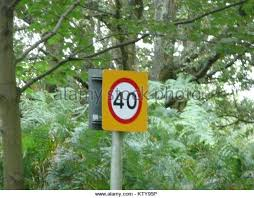Speed_limit_40km: (108, 78, 142, 123)
